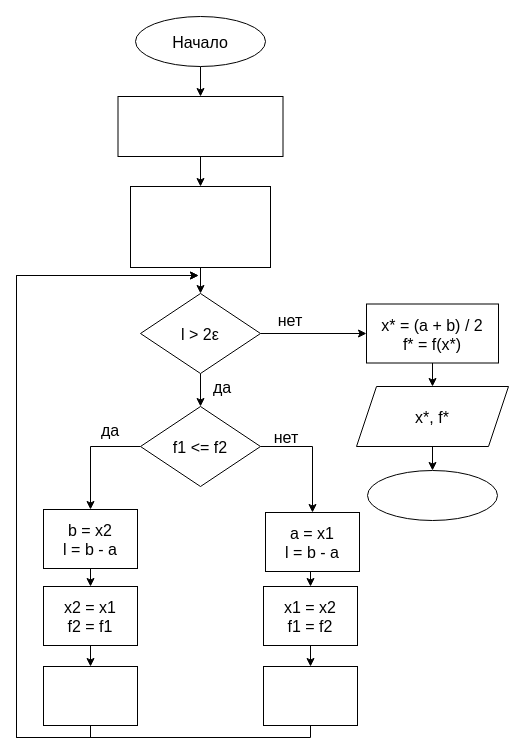
Image size: 525x754. Some labels were removed from this diagram. Each missing label, with the centre of its shape:
t = (sqrt(5) - 1) / 2 l = b - a: point (200, 126)
x1 = b - t * l f1 = f(x1): point (90, 696)
x1 = b - t * l f1 = f(x1) x2 = a + t * l f2 = f(x2): point (200, 227)
x2 = a + t * l f2 = f(x2): point (310, 696)
Конец: point (432, 495)
